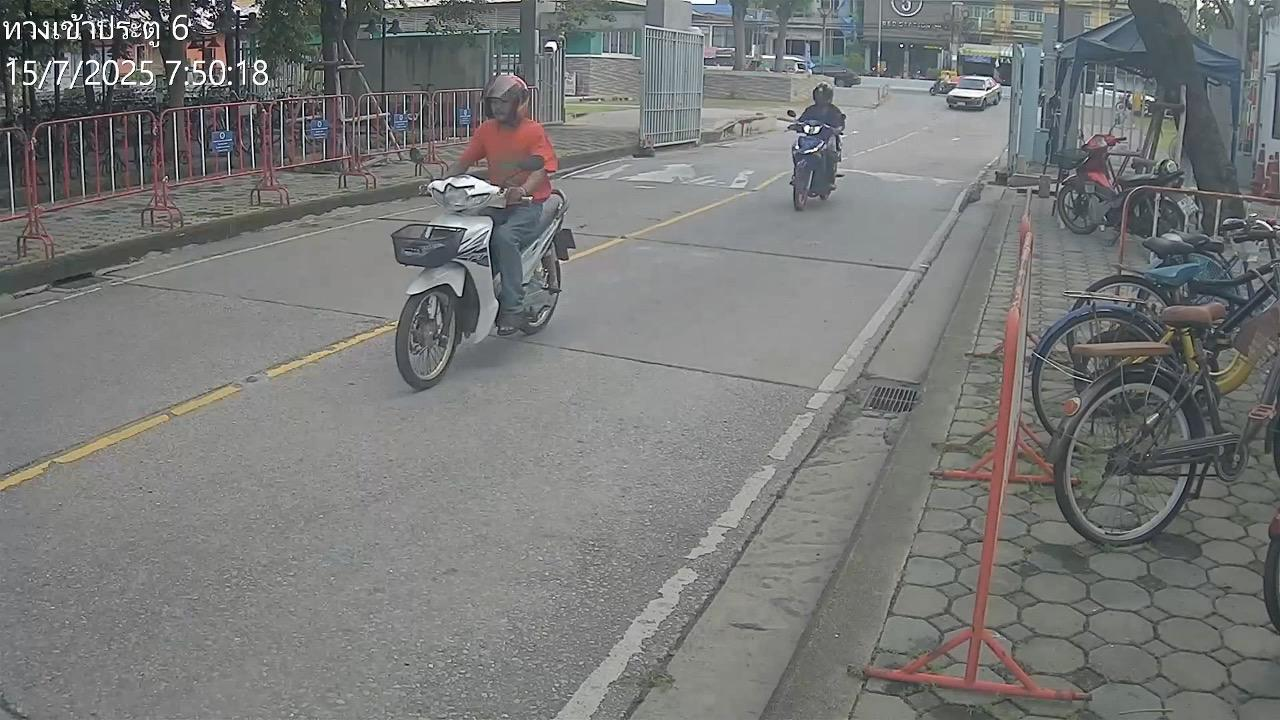With-Helmet: (481, 73, 532, 123)
